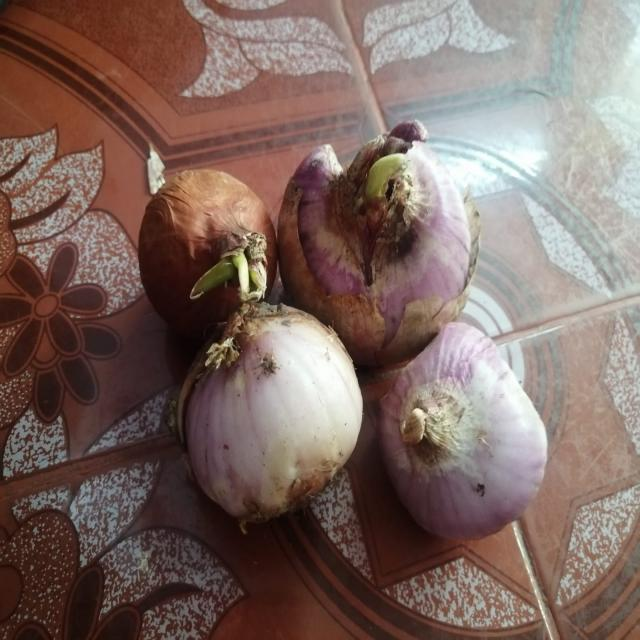rotten: (182, 330, 226, 432)
sprouting: (180, 256, 264, 300), (366, 150, 408, 212)
